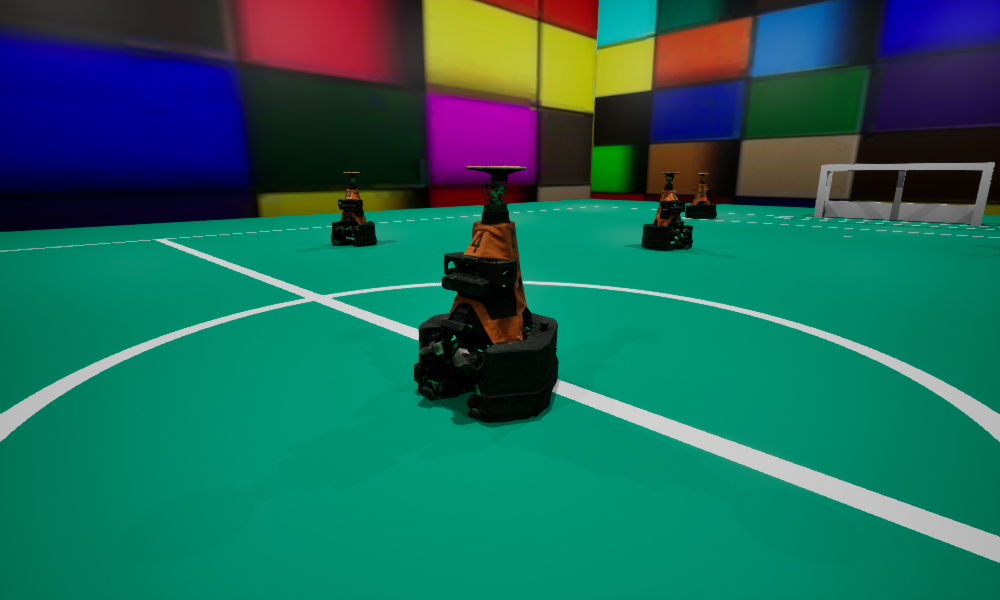o: (414, 165, 558, 420), (641, 172, 692, 250), (331, 172, 376, 245), (685, 173, 716, 218)
